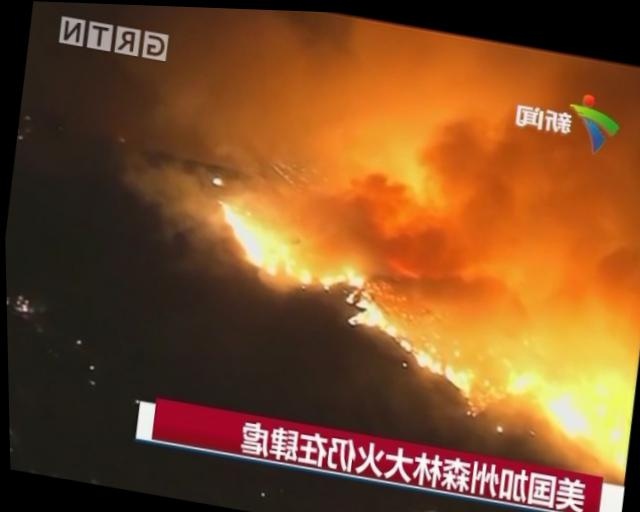fire: (193, 185, 497, 409), (496, 360, 625, 452)
